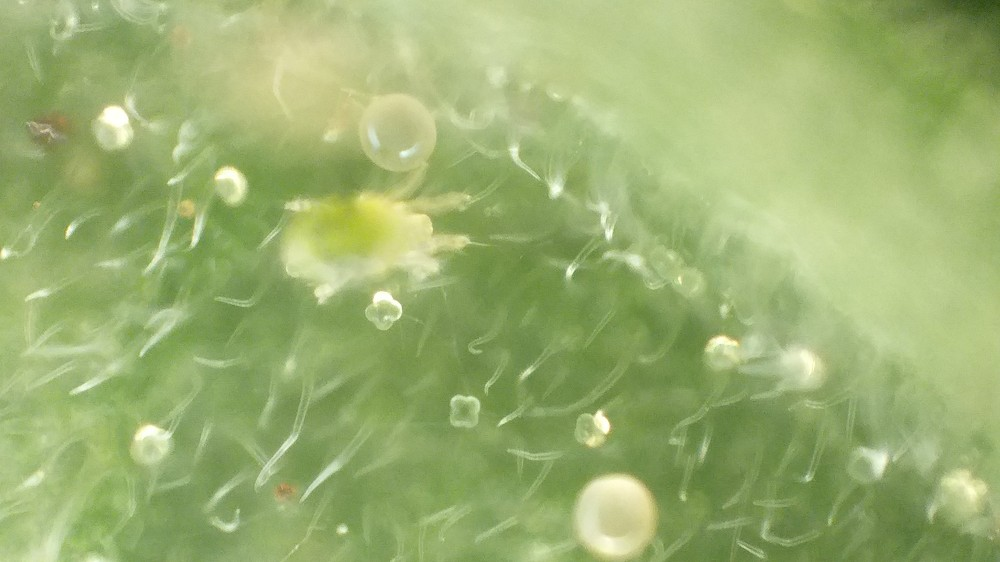Aracnido Rojo: (240, 168, 495, 310)
